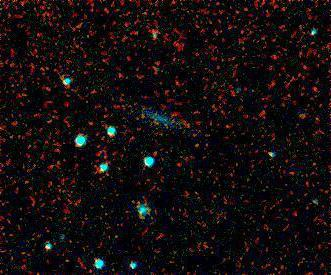star: (160, 79, 190, 109)
